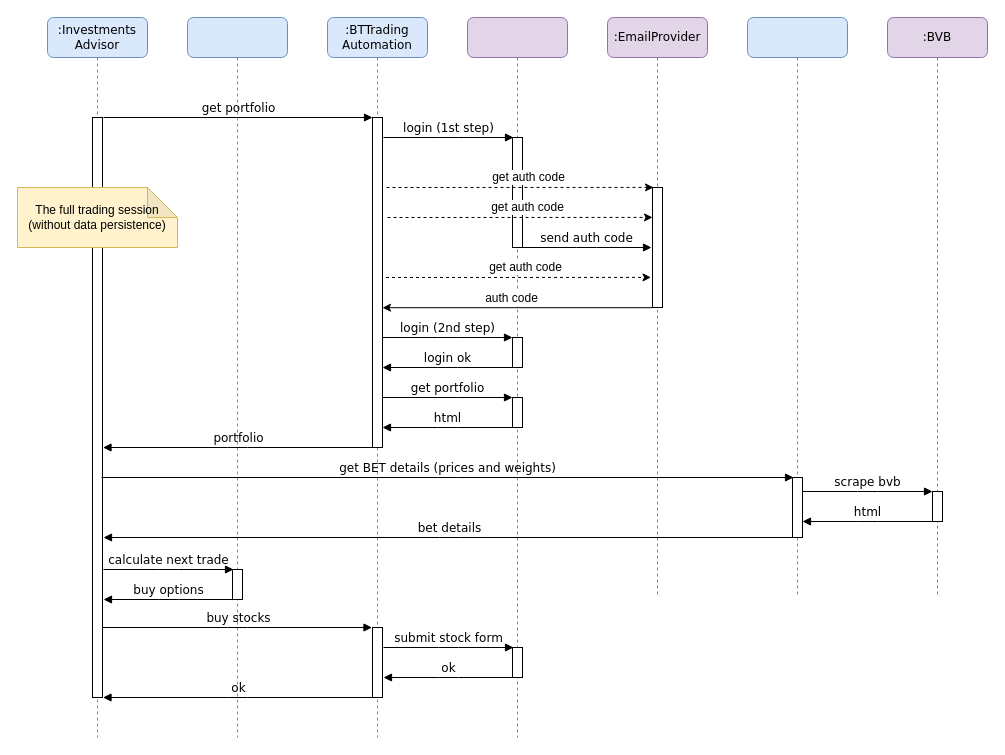
The diagram is 1005 pixels wide and 755 high, and some of its shapes have lost their labels. The shapes that lost their labels are listed below. From the top down, each one's box as (x1, y1, x2, y2) in pixels, then its label:
(746, 16, 848, 598): :BVBScraper
(186, 16, 288, 738): :Investments Logic
(466, 16, 568, 738): :BTTrading Platform
